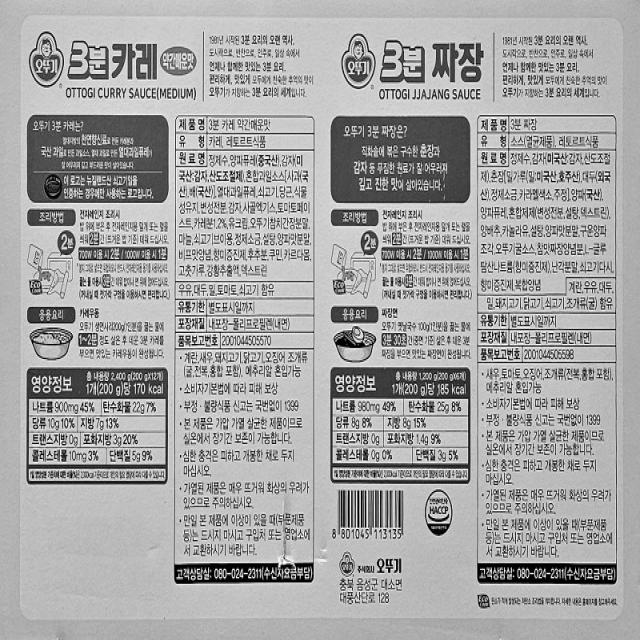Nutrition Label: (20, 359, 172, 499)
